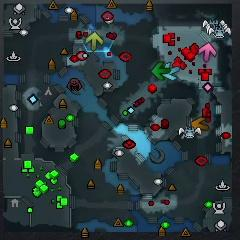x1: (197, 42, 218, 63)
x2: (84, 31, 104, 52)
x3: (161, 61, 180, 84)
x4: (150, 60, 173, 83)
x5: (192, 116, 209, 134)
